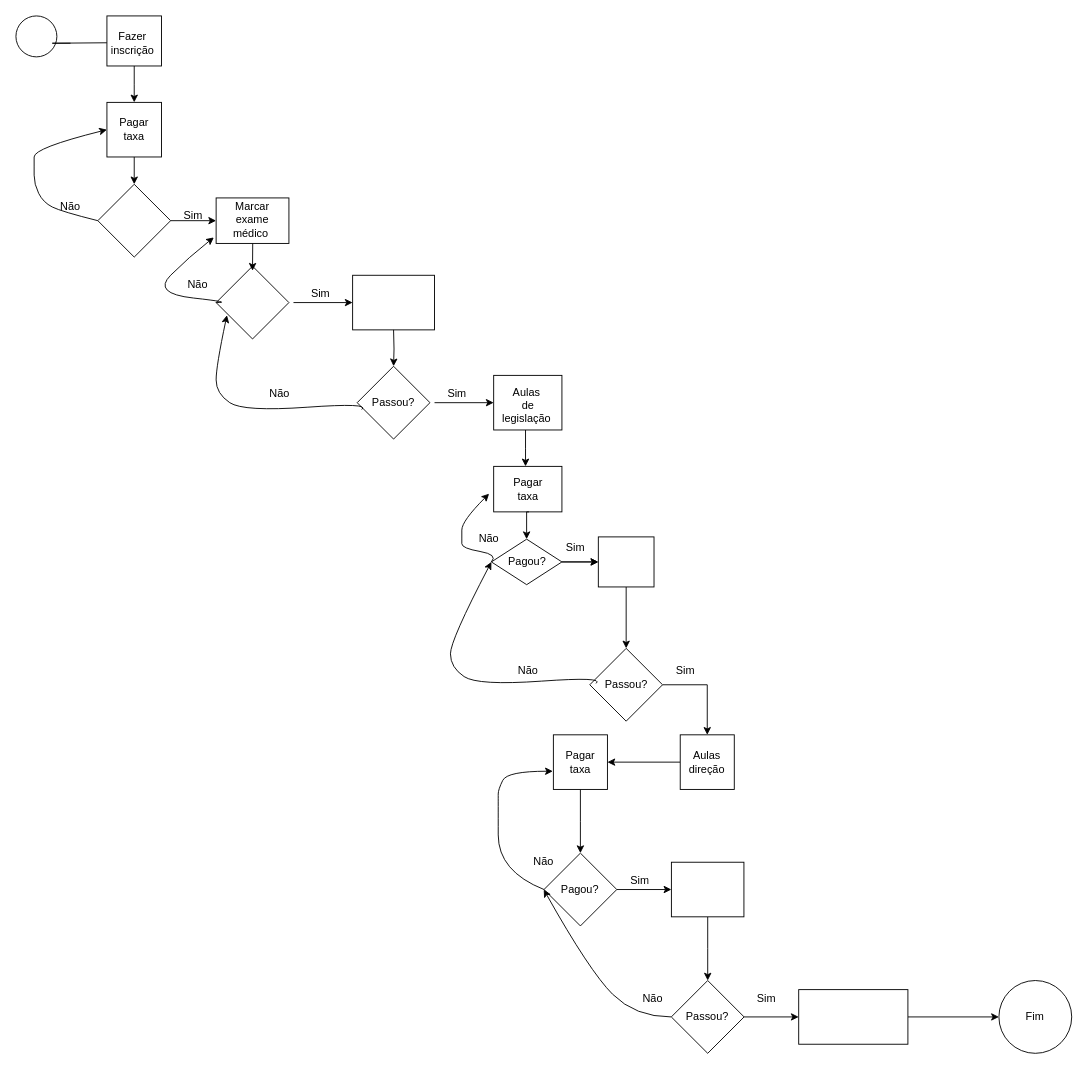
The diagram is 1088 pixels wide and 1069 high, and some of its shapes have lost their labels. The centre of each missing label's shape, as x and y in pixels:
"Compensou" belongs at [134,220].
"Exame de rua" belongs at [707,889].
"Fazer exame médico" belongs at [393,302].
"Hbilitado" belongs at [853,1016].
"Início" belongs at [36,36].
"Pagar" belongs at [252,302].
"Prova Legislação" belongs at [625,561].
